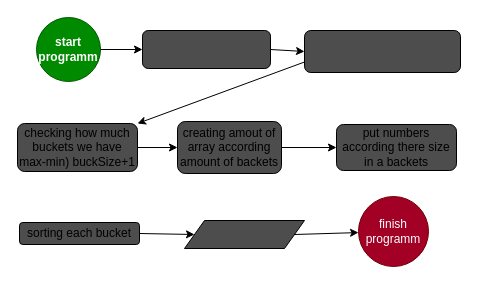
Image size: 478x284. Some labels were removed from this diagram. The centre of each missing label's shape, as x and y in pixels:
calling method bucketSort(array,min,max): (382,51)
filling array with integer: (206,49)
void sorted array: (244,234)
